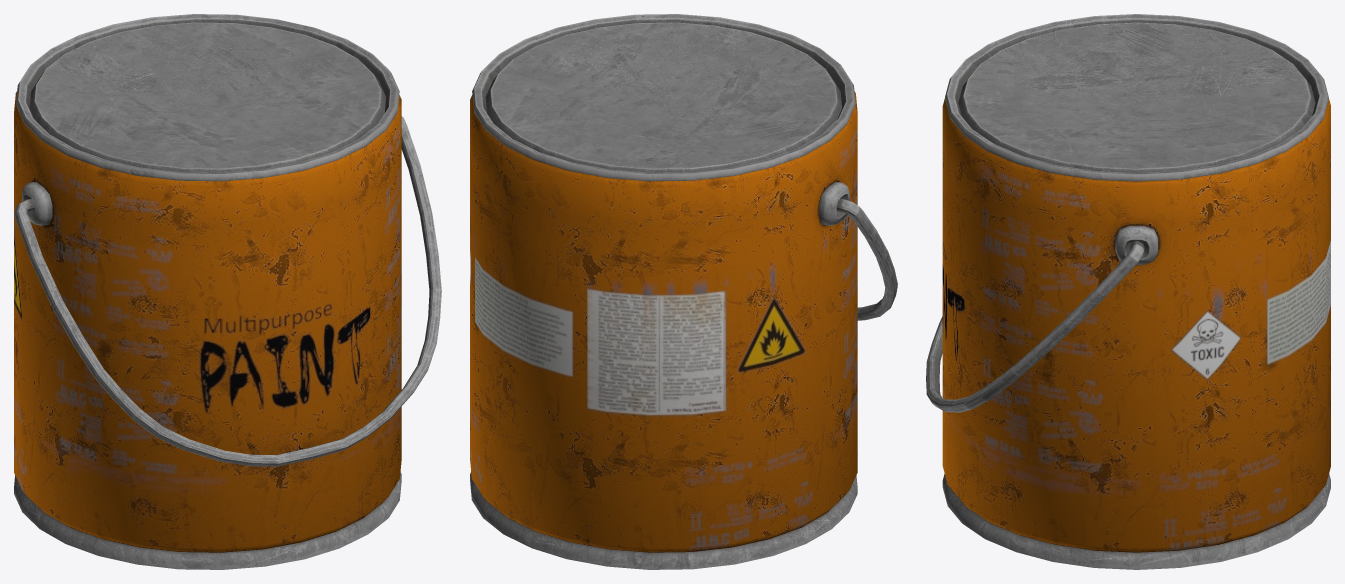
The model's file is can-big-01.fbx.
3 views of the same model, side by side, from view 1: azimuth 30°, elevation 25°; view 2: azimuth 150°, elevation 25°; view 3: azimuth 270°, elevation 25° (orthographic).
Parts seen in each view (by area): view 1: can_big_01_can_big_0; view 2: can_big_01_can_big_0; view 3: can_big_01_can_big_0.
Part boxes in pixels (x1,y1,x2,y2): can_big_01_can_big_0: (14, 14, 441, 569); can_big_01_can_big_0: (470, 14, 897, 569); can_big_01_can_big_0: (926, 14, 1330, 569).
Size of the model in its own units: 8.28 by 8.03 by 7.49.
